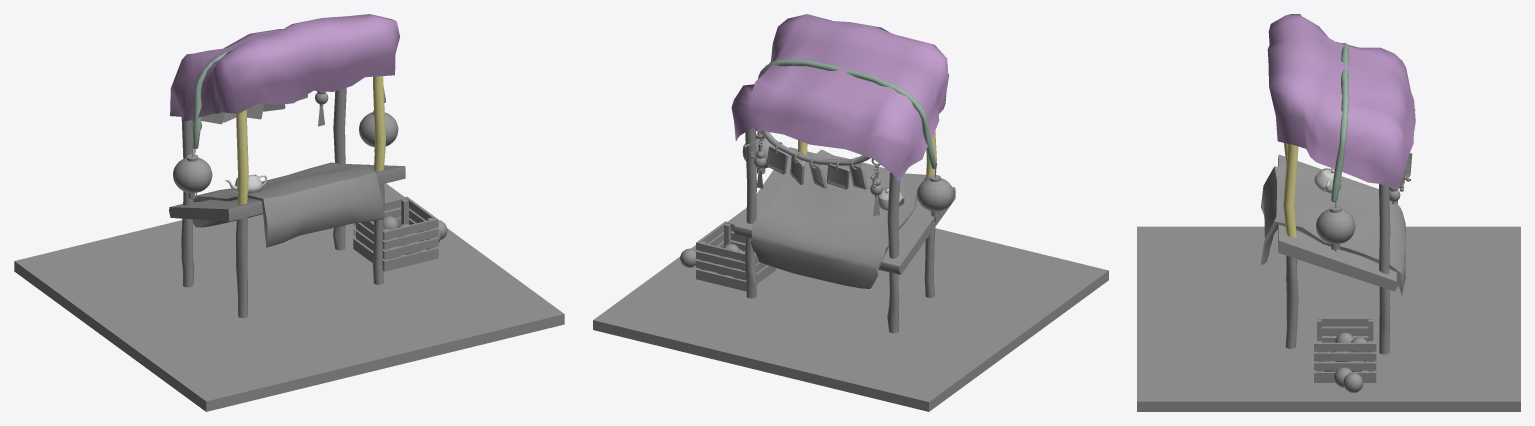
3 views of the same model, side by side, from view 1: azimuth 30°, elevation 25°; view 2: azimuth 150°, elevation 25°; view 3: azimuth 270°, elevation 25° (orthographic). The views are drawn at different scales.
Parts seen in each view (by area): view 1: ground, top_low, cloth_low, crate, BaTpLeg_low, table_low, BaBtLeg_low, FrTpLeg_low, lantern, FrBtLeg_low, lantern001, rope_low; view 2: ground, top_low, cloth_low, table_low, crate, FrTpLeg_low, rope_low, FrBtLeg_low, lantern, tube_low, BaBtLeg_low, bottle (+1 smaller); view 3: ground, top_low, cloth_low, crate, table_low, lantern001, rope_low, BaTpLeg_low, BaBtLeg_low, FrTpLeg_low, FrBtLeg_low, Teapot001.
Part boxes in pixels (left/top/right/bottom): ground: left=14, top=183, right=564, bottom=411; top_low: left=170, top=14, right=399, bottom=121; cloth_low: left=193, top=162, right=384, bottom=247; crate: left=353, top=196, right=438, bottom=271; BaTpLeg_low: left=236, top=76, right=385, bottom=204; table_low: left=169, top=164, right=405, bottom=221; BaBtLeg_low: left=236, top=184, right=384, bottom=318; FrTpLeg_low: left=181, top=88, right=346, bottom=205; lantern: left=173, top=140, right=212, bottom=204; FrBtLeg_low: left=181, top=218, right=345, bottom=287; lantern001: left=359, top=110, right=398, bottom=151; rope_low: left=193, top=46, right=385, bottom=149; ground: left=593, top=208, right=1108, bottom=411; top_low: left=731, top=14, right=949, bottom=181; cloth_low: left=751, top=149, right=925, bottom=288; table_low: left=733, top=147, right=955, bottom=274; crate: left=696, top=221, right=775, bottom=291; FrTpLeg_low: left=745, top=128, right=900, bottom=258; rope_low: left=758, top=59, right=936, bottom=168; FrBtLeg_low: left=745, top=237, right=898, bottom=333; lantern: left=917, top=161, right=953, bottom=222; tube_low: left=761, top=130, right=870, bottom=165; BaBtLeg_low: left=924, top=227, right=935, bottom=297; bottle: left=743, top=129, right=766, bottom=188; ground: left=1137, top=226, right=1520, bottom=411; top_low: left=1267, top=14, right=1415, bottom=189; cloth_low: left=1260, top=166, right=1405, bottom=296; crate: left=1314, top=317, right=1376, bottom=382; table_low: left=1278, top=154, right=1397, bottom=291; lantern001: left=1316, top=201, right=1355, bottom=251; rope_low: left=1331, top=43, right=1348, bottom=201; BaTpLeg_low: left=1283, top=143, right=1298, bottom=237; BaBtLeg_low: left=1285, top=255, right=1298, bottom=348; FrTpLeg_low: left=1379, top=184, right=1390, bottom=273; FrBtLeg_low: left=1379, top=287, right=1390, bottom=354; Teapot001: left=1314, top=168, right=1341, bottom=193.
Size of the model in its own units: 2.73 by 2.07 by 2.53.
